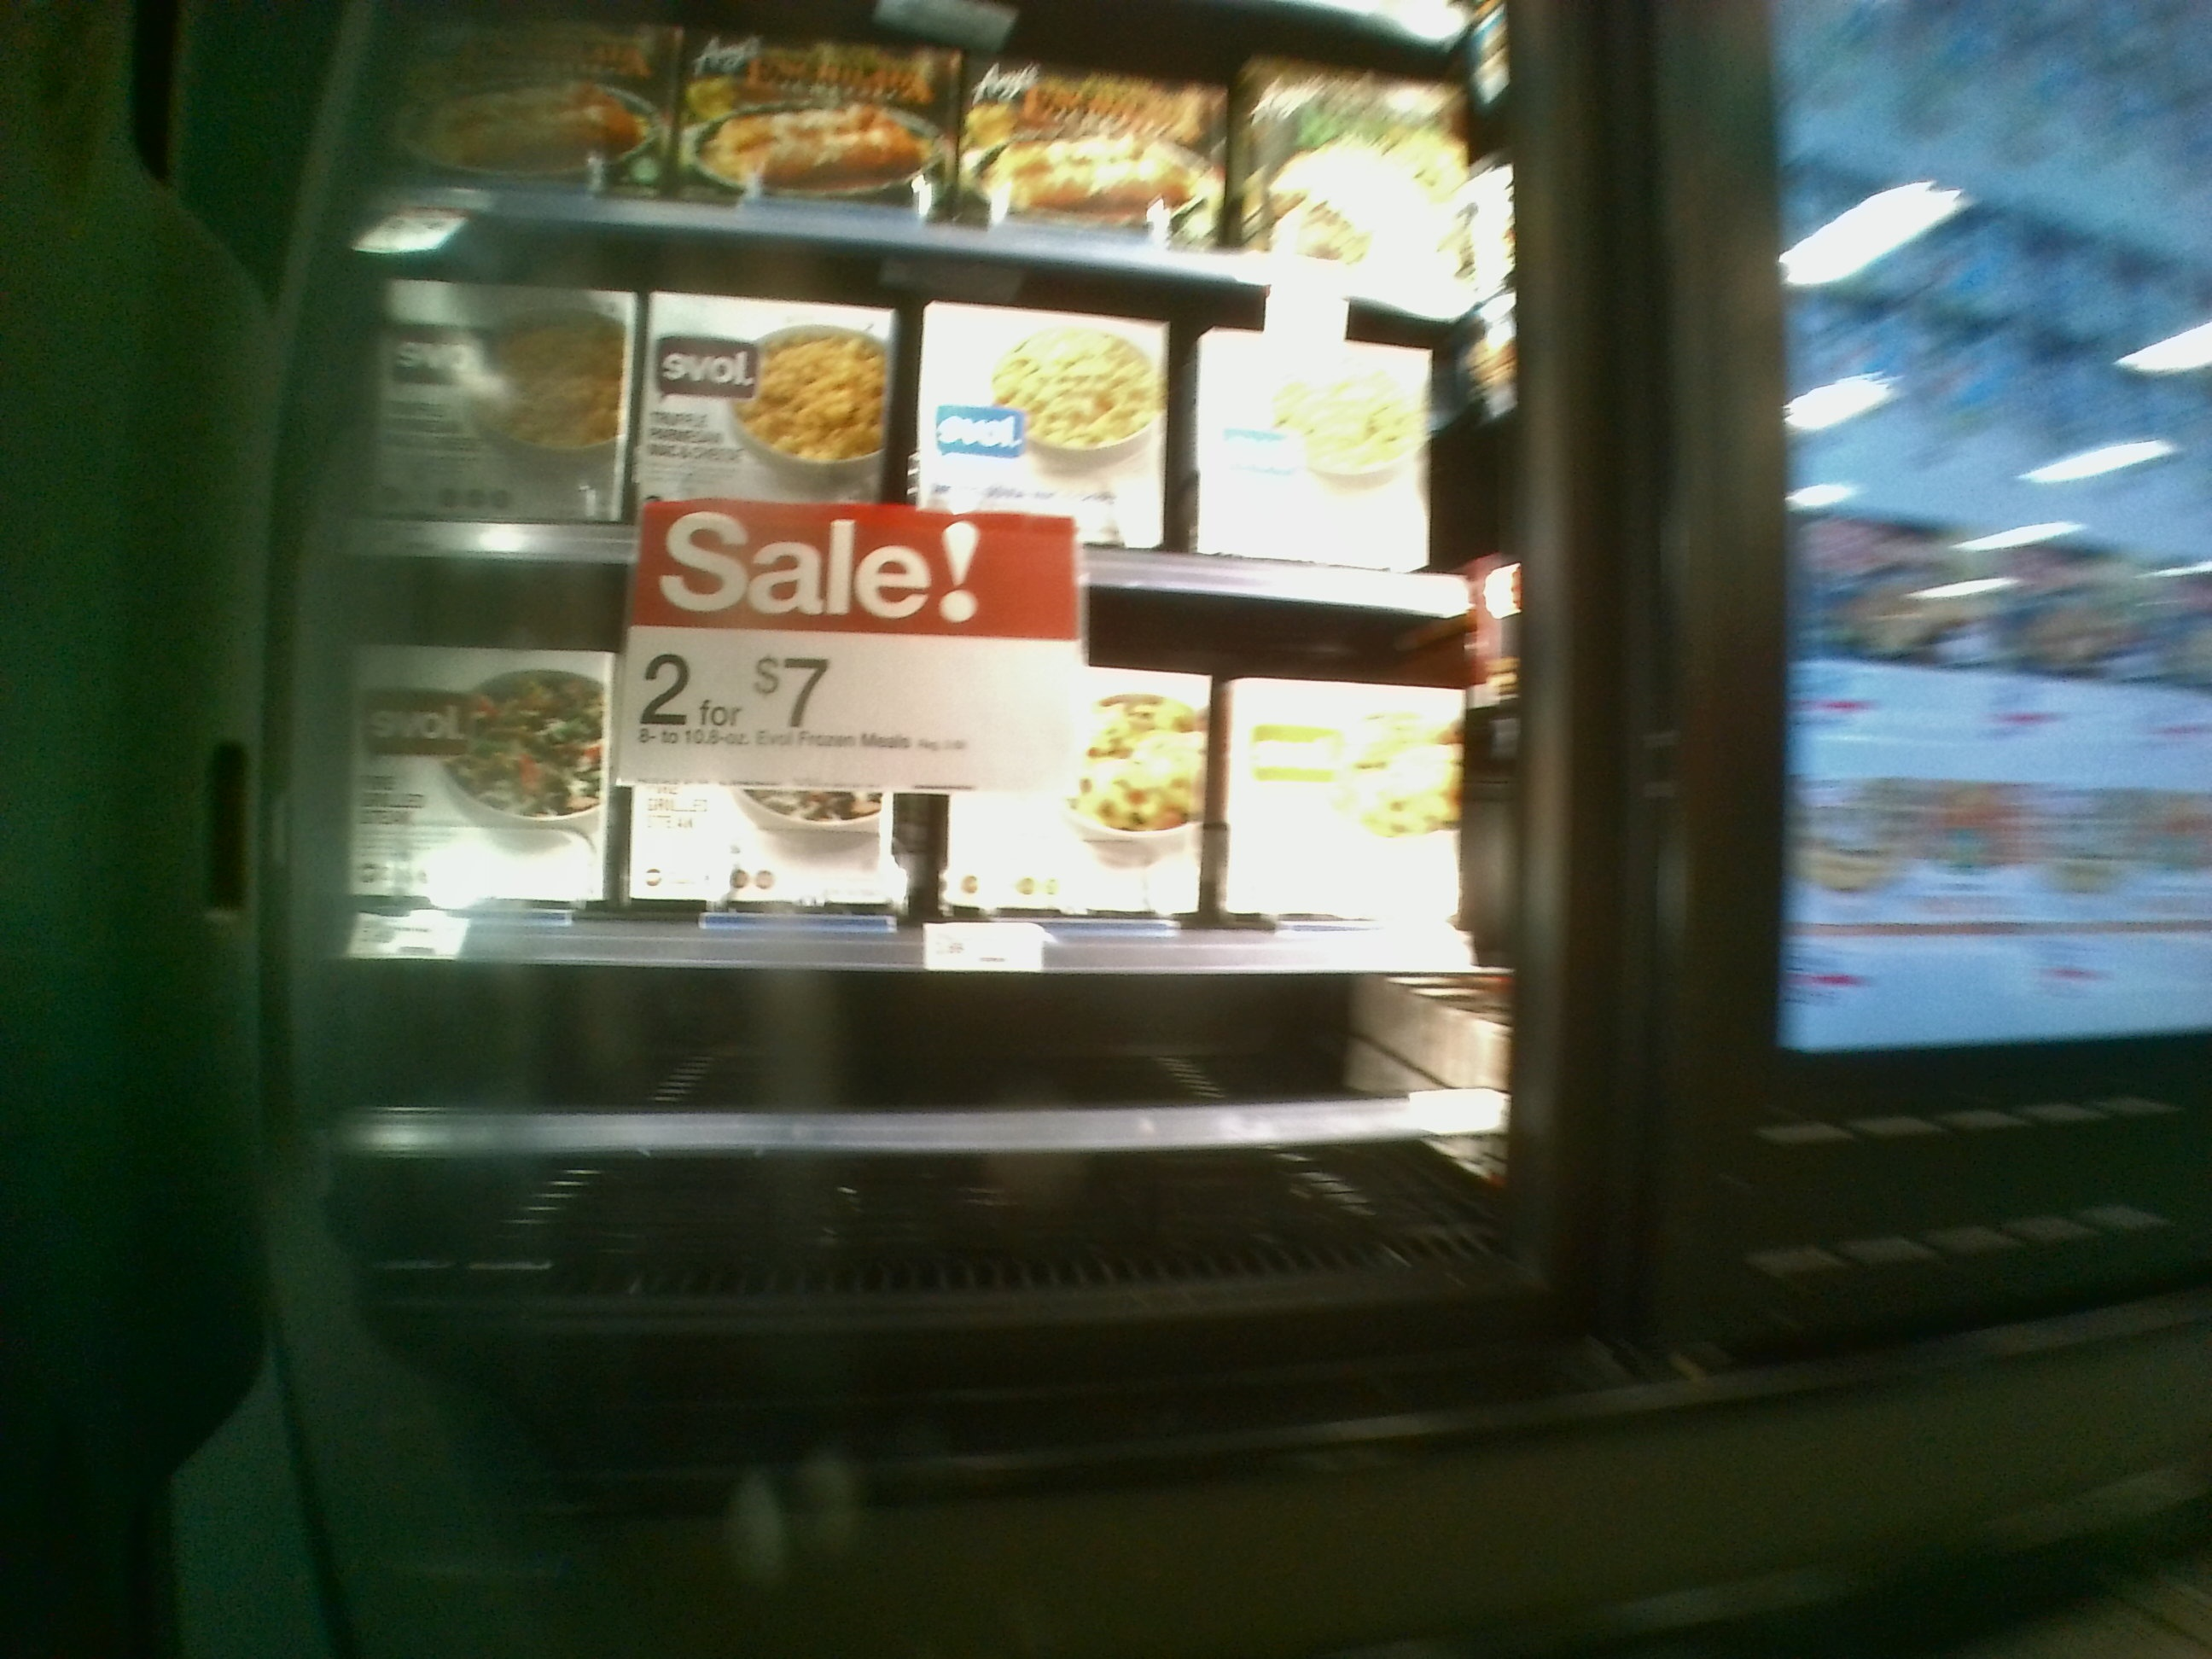shelf: (354, 596, 1482, 972), (350, 268, 1487, 587), (345, 965, 1484, 1262)
